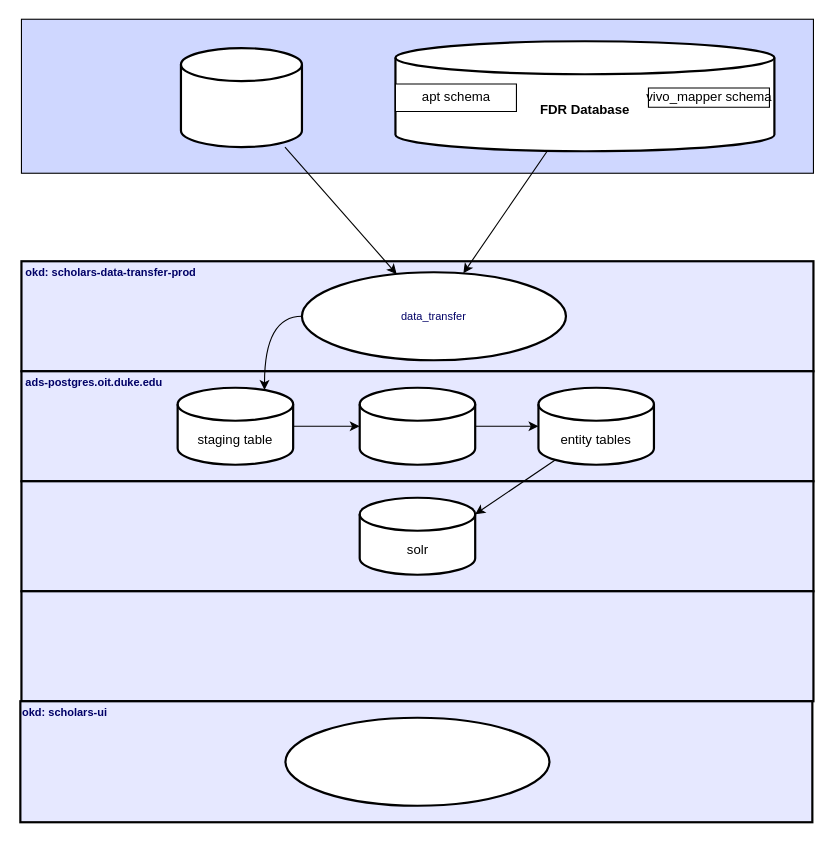
Image size: 833x843. Some labels were removed from this diagram. Here are the shapes that lost their labels. From the top down, the box of each, then its label:
(179, 46, 302, 148): RDF (mariadb)
(358, 386, 476, 465): resources table
(20, 590, 814, 702): graphql
(284, 716, 550, 806): ScholarsUI
